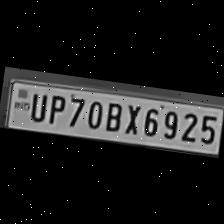0: (82, 96, 106, 130)
2: (177, 107, 199, 141)
5: (196, 110, 218, 145)
6: (139, 103, 162, 136)
7: (64, 92, 86, 128)
9: (158, 105, 180, 139)
B: (101, 97, 124, 132)
P: (44, 89, 68, 125)
U: (26, 88, 48, 122)
X: (120, 100, 142, 136)
